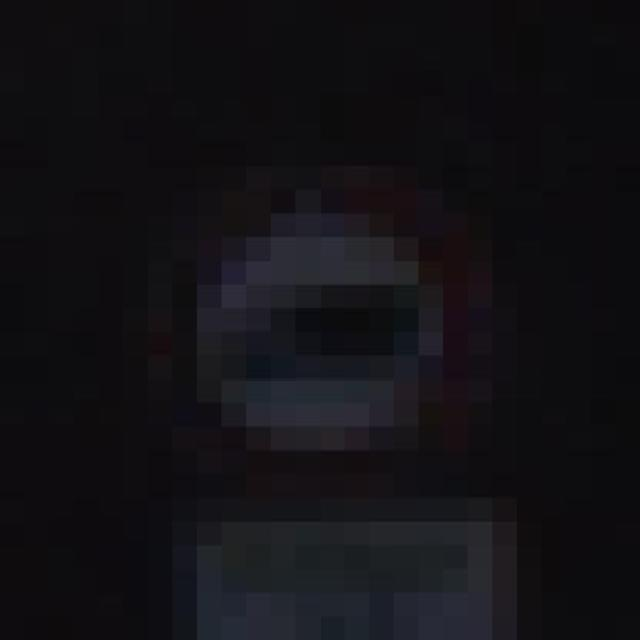Truck traffic is prohibited: (123, 142, 517, 498)
